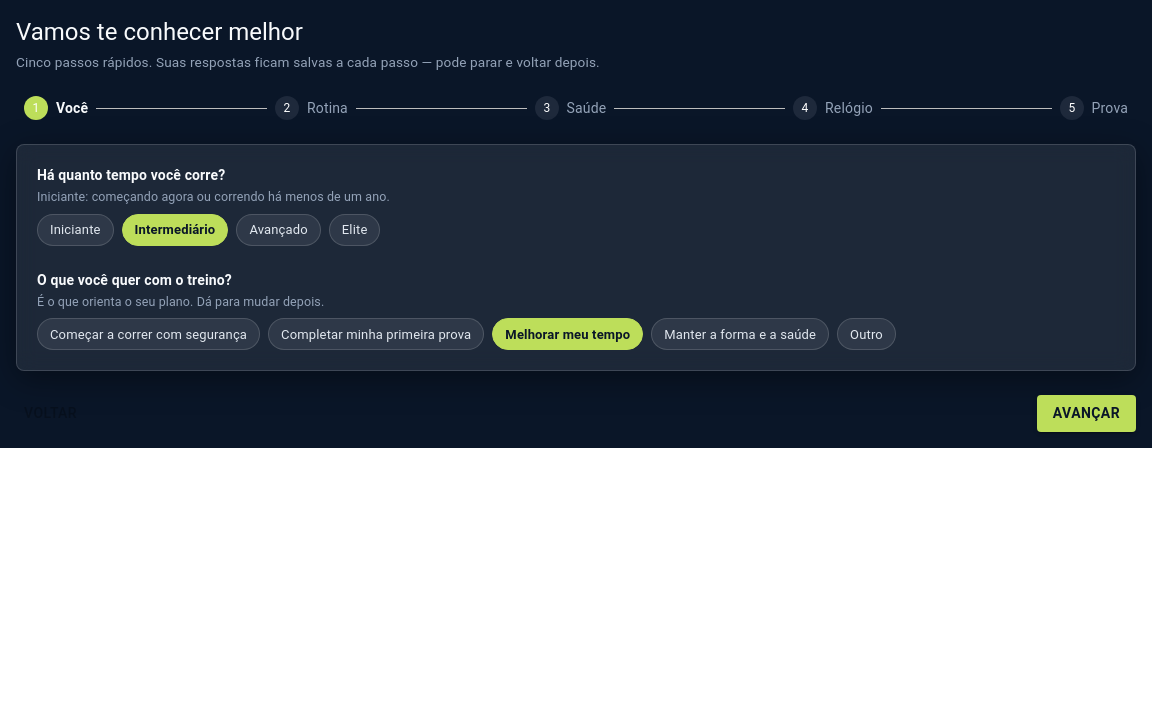
Scenario: AthleteOnboardingPage › salva o draft e avança para a etapa de rotina ao clicar em Avançar
Click the button "Avançar" at (1086, 414), box [1037, 395, 1136, 432]
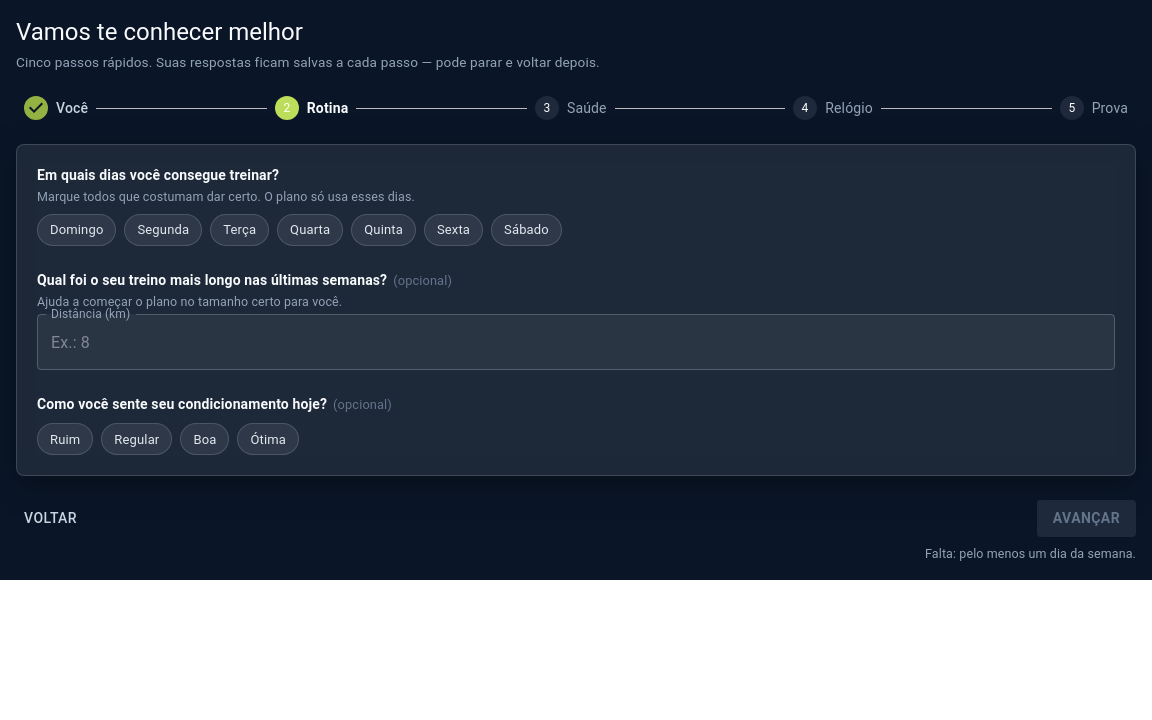
expect the text "Em quais dias você consegue treinar?" is shown: met, box [37, 167, 279, 183]
